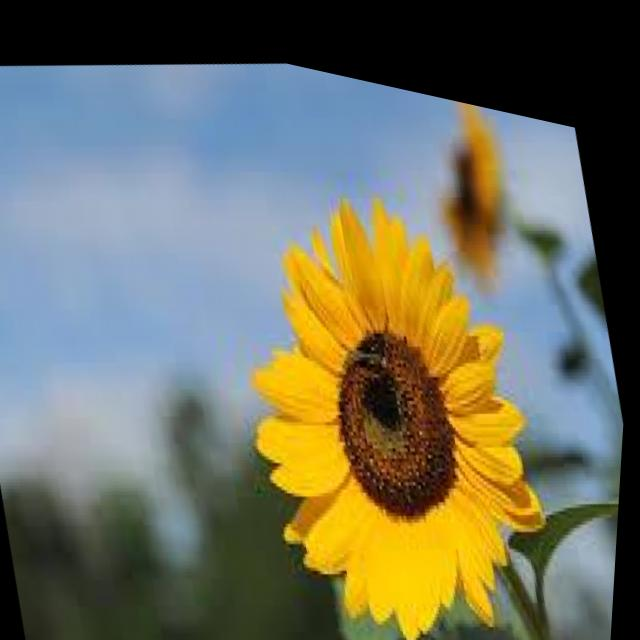Flower: (189, 128, 592, 640)
